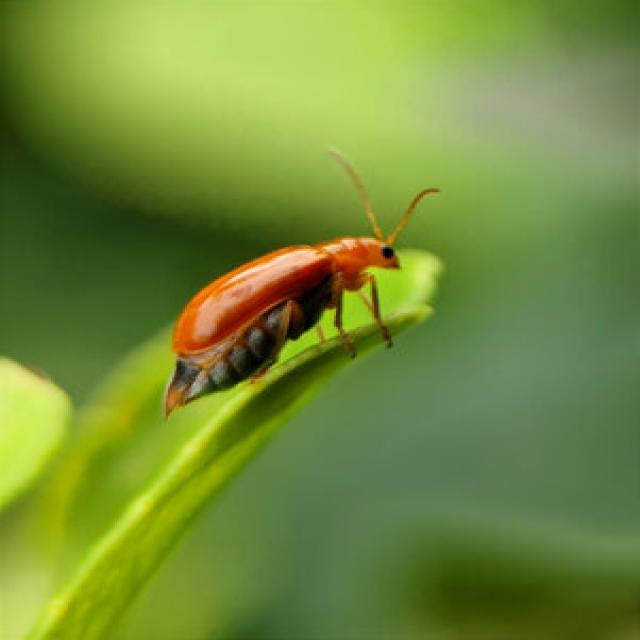Pumpkin Beetle: (162, 156, 441, 426)
